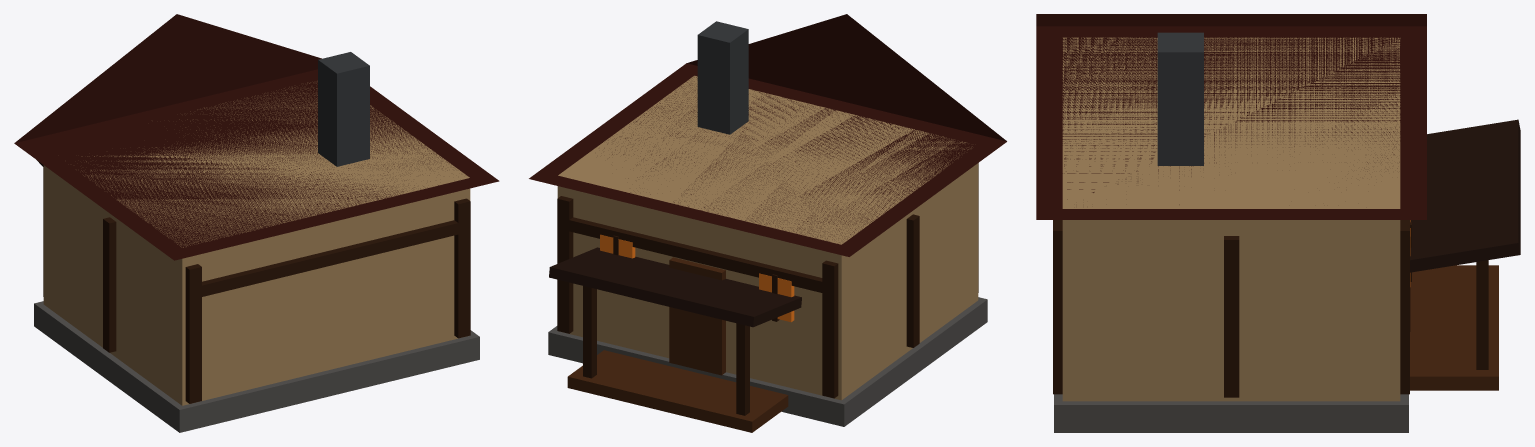
The model's file is House_A.obj.
3 renders of one model, left to right at view 1: azimuth 30°, elevation 25°; view 2: azimuth 150°, elevation 25°; view 3: azimuth 270°, elevation 25°, orthographic. The views are drawn at different scales.
Parts seen in each view (by area): view 1: PlasterWalls, GabledRoof, StoneFoundation, Chimney, TimberBeam_1.8, TimberPost_-2.0_1.8, TimberPost_2.0_1.8, SidePost_-2.1; view 2: PlasterWalls, GabledRoof, PorchRoof, PorchDeck, StoneFoundation, Chimney, Door, TimberBeam_-1.8, TimberPost_-2.0_-1.8, TimberPost_2.0_-1.8, SidePost_-2.1, PorchPost-1.1340000000000001 (+3 smaller); view 3: PlasterWalls, GabledRoof, PorchRoof, StoneFoundation, PorchDeck, Chimney, SidePost_2.1, TimberPost_2.0_-1.8, TimberPost_2.0_1.8, PorchPost1.1340000000000001.
Boxes of the visible parts, x1,y1,x2,y2 form: PlasterWalls: (43,81,470,405); GabledRoof: (14,14,499,260); StoneFoundation: (34,301,479,432); Chimney: (318,52,369,166); TimberBeam_1.8: (197,220,462,297); TimberPost_-2.0_1.8: (185,264,201,403); TimberPost_2.0_1.8: (454,198,470,338); SidePost_-2.1: (103,217,116,352); PlasterWalls: (557,75,978,400); GabledRoof: (529,14,1006,256); PorchRoof: (549,247,801,327); PorchDeck: (567,350,788,432); StoneFoundation: (548,297,987,426); Chimney: (697,21,748,134); Door: (669,257,725,375); TimberBeam_-1.8: (565,217,826,293); TimberPost_-2.0_-1.8: (822,260,838,398); TimberPost_2.0_-1.8: (557,196,573,333); SidePost_-2.1: (906,214,919,347); PorchPost-1.1340000000000001: (736,323,749,415); PlasterWalls: (1062,37,1400,401); GabledRoof: (1036,14,1426,219); PorchRoof: (1410,119,1520,272); StoneFoundation: (1054,394,1408,432); PorchDeck: (1410,265,1498,390); Chimney: (1157,32,1203,165); SidePost_2.1: (1224,236,1239,397); TimberPost_2.0_-1.8: (1400,223,1409,394); TimberPost_2.0_1.8: (1053,223,1062,394); PorchPost1.1340000000000001: (1476,260,1488,369).
Size of the model in its own units: 4.75 by 3.89 by 5.02.
